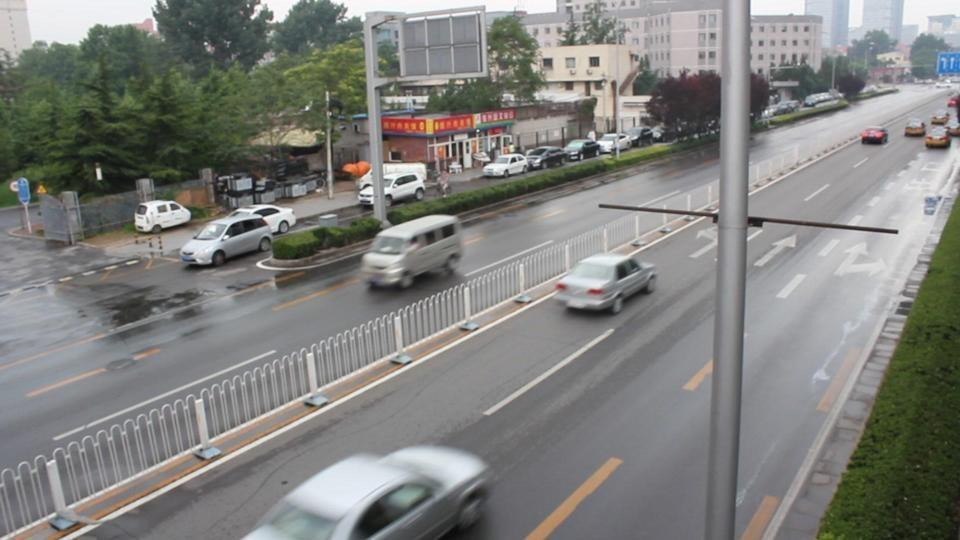car: (241, 442, 495, 539), (360, 214, 465, 291), (555, 251, 659, 315), (179, 211, 275, 268), (356, 168, 425, 208), (134, 199, 191, 234), (237, 204, 295, 235), (600, 129, 657, 151), (483, 154, 528, 178), (525, 146, 567, 171), (563, 138, 605, 162), (622, 126, 663, 148), (803, 90, 842, 109), (597, 134, 632, 155), (924, 125, 949, 150), (860, 127, 889, 145), (904, 119, 926, 138), (928, 111, 948, 125), (946, 118, 960, 135)
